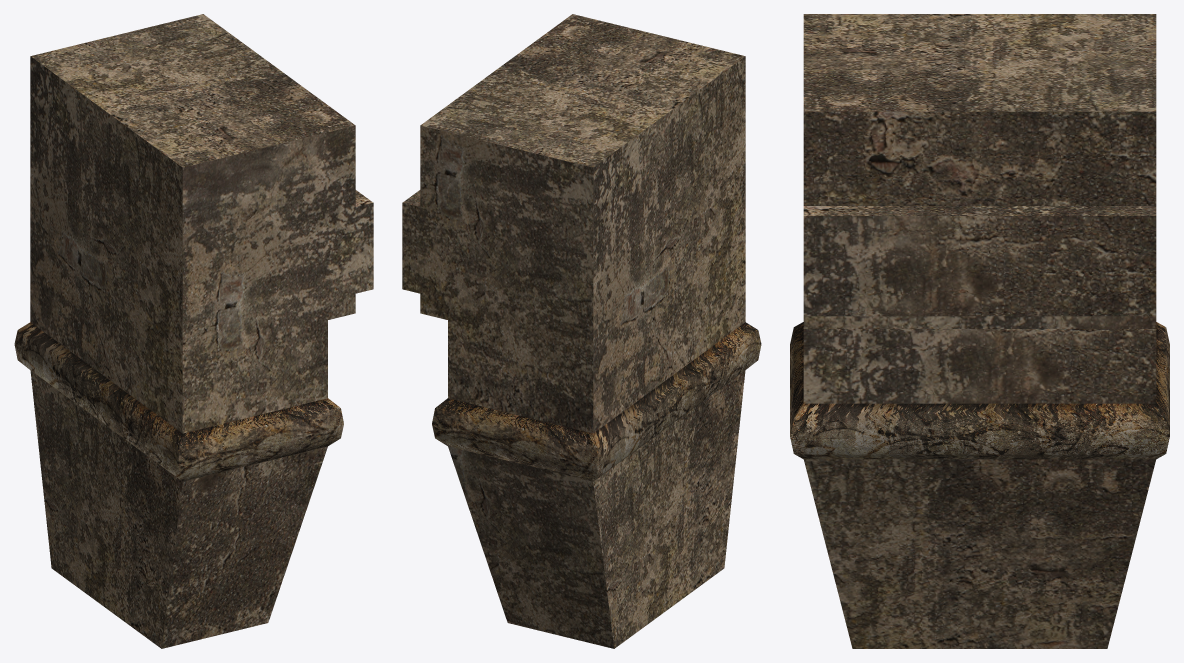
The model's file is materials_5_decoration_13.fbx.
The picture shows the model from 3 angles, left to right: view 1: azimuth 30°, elevation 25°; view 2: azimuth 150°, elevation 25°; view 3: azimuth 270°, elevation 25°; orthographic projection. The views are drawn at different scales.
Parts seen in each view (by area): view 1: materials_5_decoration_13; view 2: materials_5_decoration_13; view 3: materials_5_decoration_13.
Part boxes in pixels (x1,y1,x2,y2): materials_5_decoration_13: [14, 14, 373, 648]; materials_5_decoration_13: [402, 14, 761, 648]; materials_5_decoration_13: [790, 14, 1169, 648].
Size of the model in its own units: 18.93 by 44.73 by 26.78.
